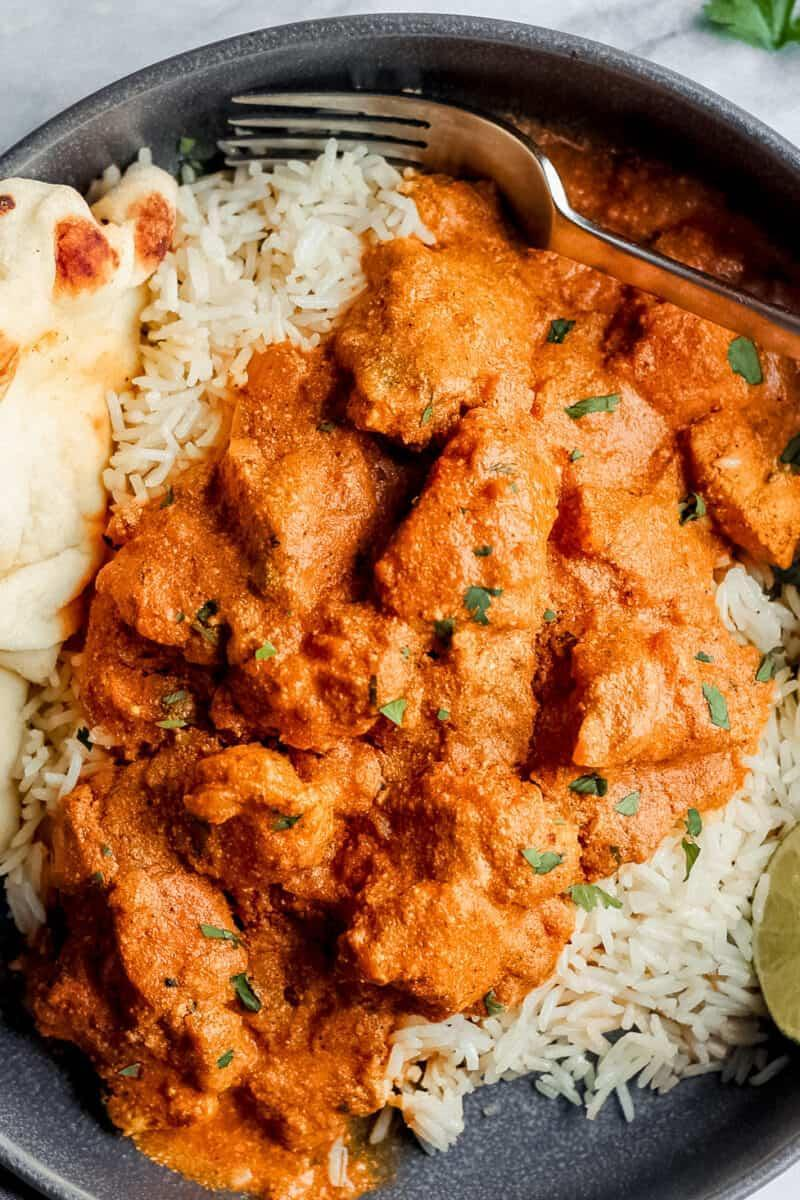chicken: (87, 225, 650, 1070)
rice: (93, 175, 373, 452), (573, 838, 800, 1106)
roti: (3, 168, 100, 719)
